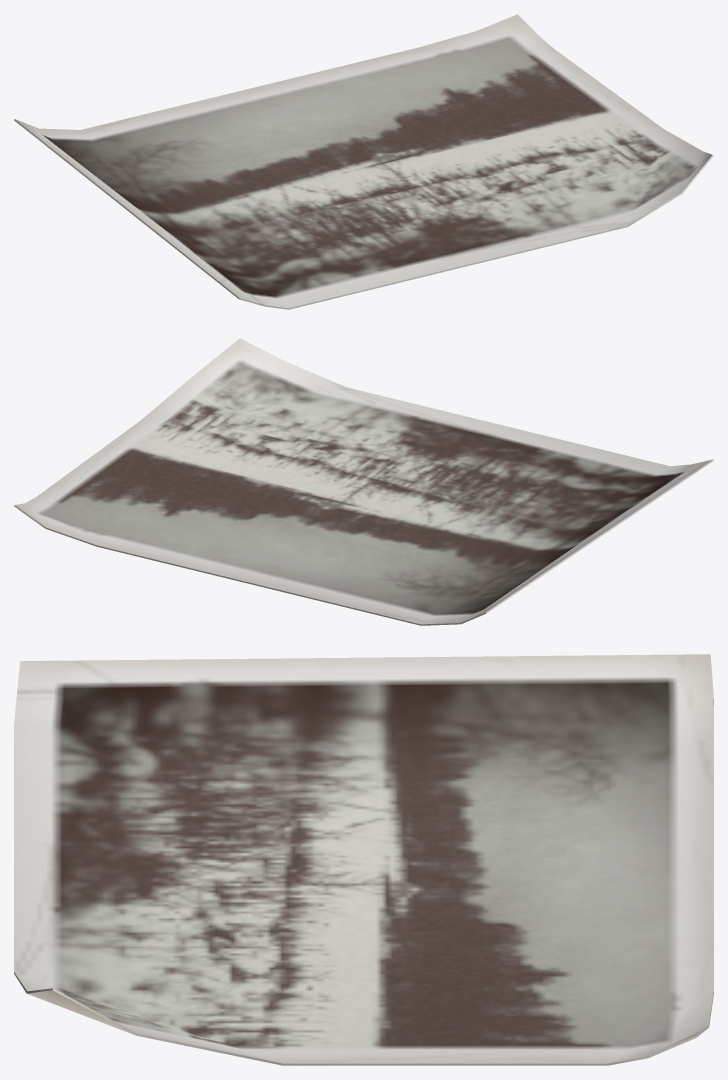
The model's file is Picture_9_Small.FBX.
3 views of the same model, one above another, from view 1: azimuth 30°, elevation 25°; view 2: azimuth 150°, elevation 25°; view 3: azimuth 270°, elevation 25° (orthographic). The views are drawn at different scales.
Visible parts, largest first — view 1: Picture_9_Small; view 2: Picture_9_Small; view 3: Picture_9_Small.
Boxes of the visible parts, x1,y1,x2,y2 form: Picture_9_Small: [14, 14, 713, 309]; Picture_9_Small: [14, 338, 713, 625]; Picture_9_Small: [14, 654, 713, 1065].
Size of the model in its own units: 24.9 by 1.79 by 19.76.
